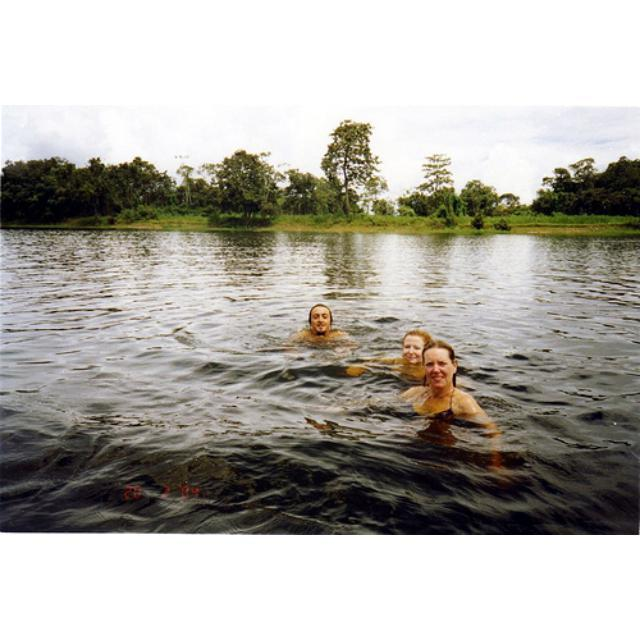human: (422, 341, 509, 460), (290, 302, 348, 341), (392, 326, 429, 375)
